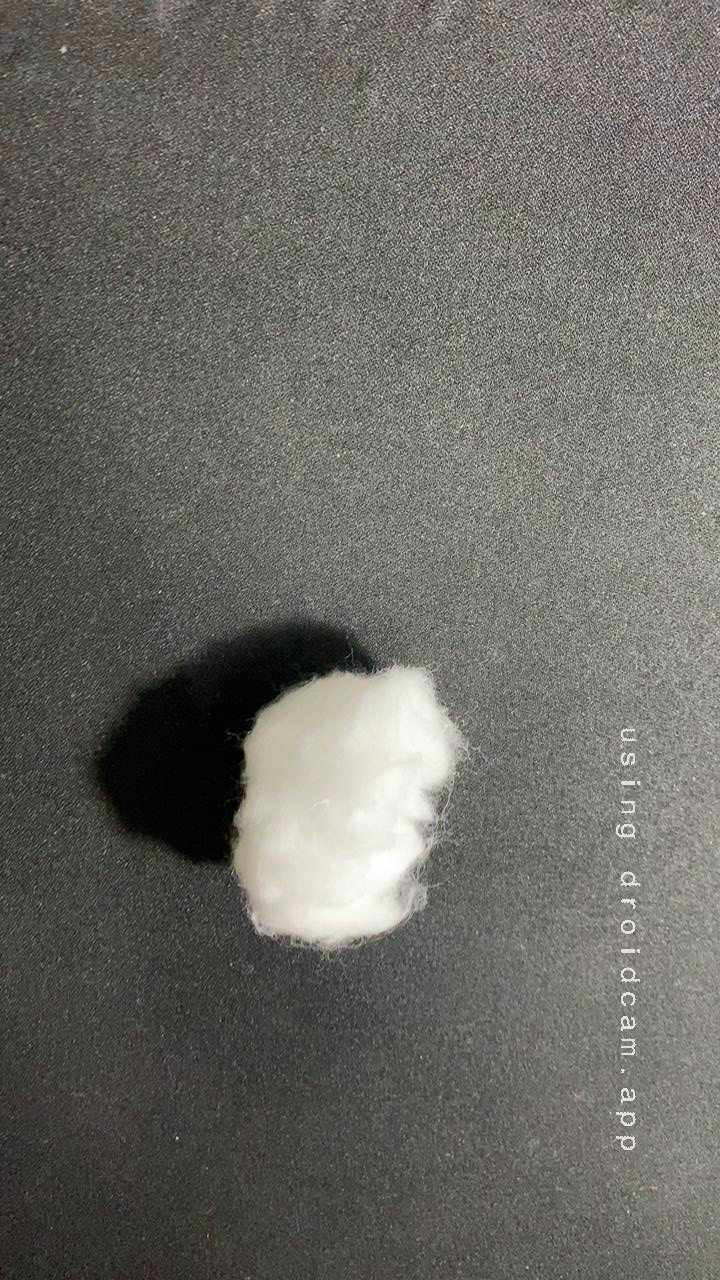cotton: (196, 633, 502, 984)
